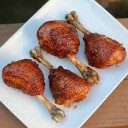chicken_lollipop: (34, 11, 128, 85), (18, 43, 99, 111), (2, 60, 64, 124)
